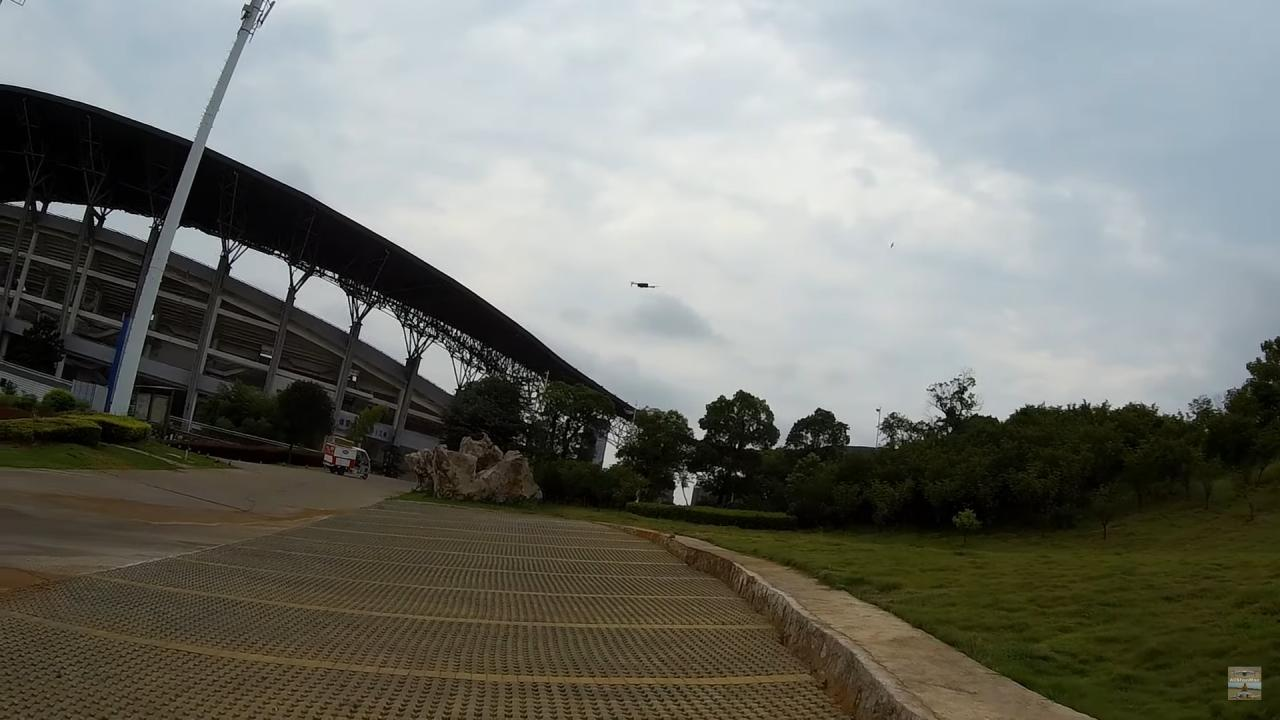Drone: (624, 276, 663, 294)
